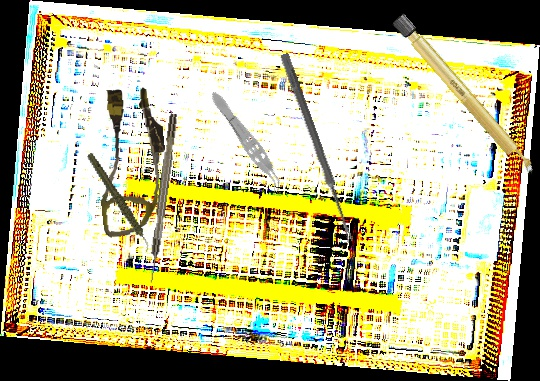Cannula: (89, 84, 174, 239)
Handpiece: (85, 144, 152, 261)
Hook Surgical: (146, 113, 179, 284)
Scalpel Handle: (390, 12, 540, 180)
Surgical Spoon: (278, 52, 357, 244)
Tissue Forceps: (205, 87, 290, 198)
